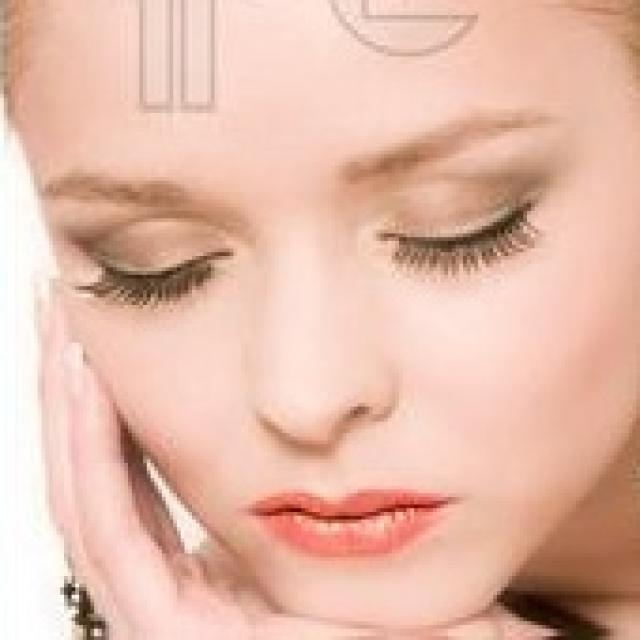Eyeclosed: (375, 195, 548, 270), (93, 238, 232, 308)
